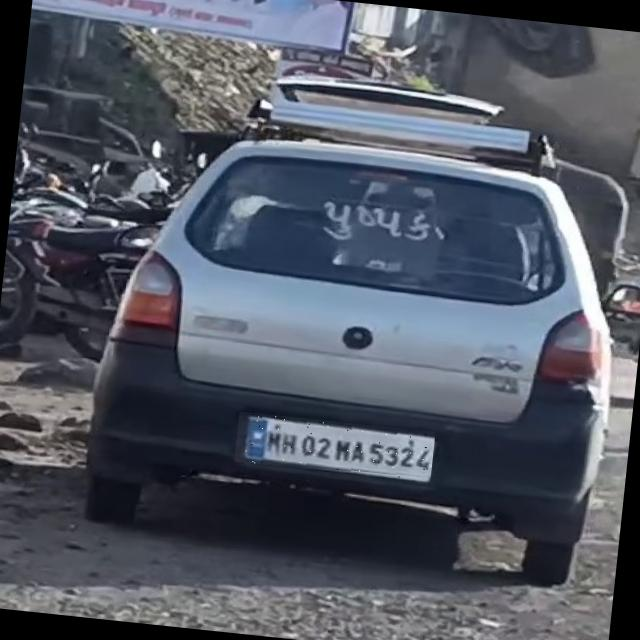Plate: (235, 412, 436, 482)
